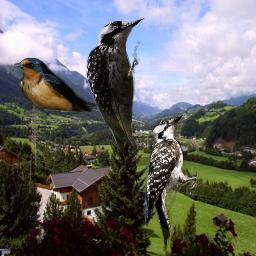Swallow: (14, 58, 123, 112)
Woodpecker: (81, 11, 149, 161), (141, 111, 197, 253)
